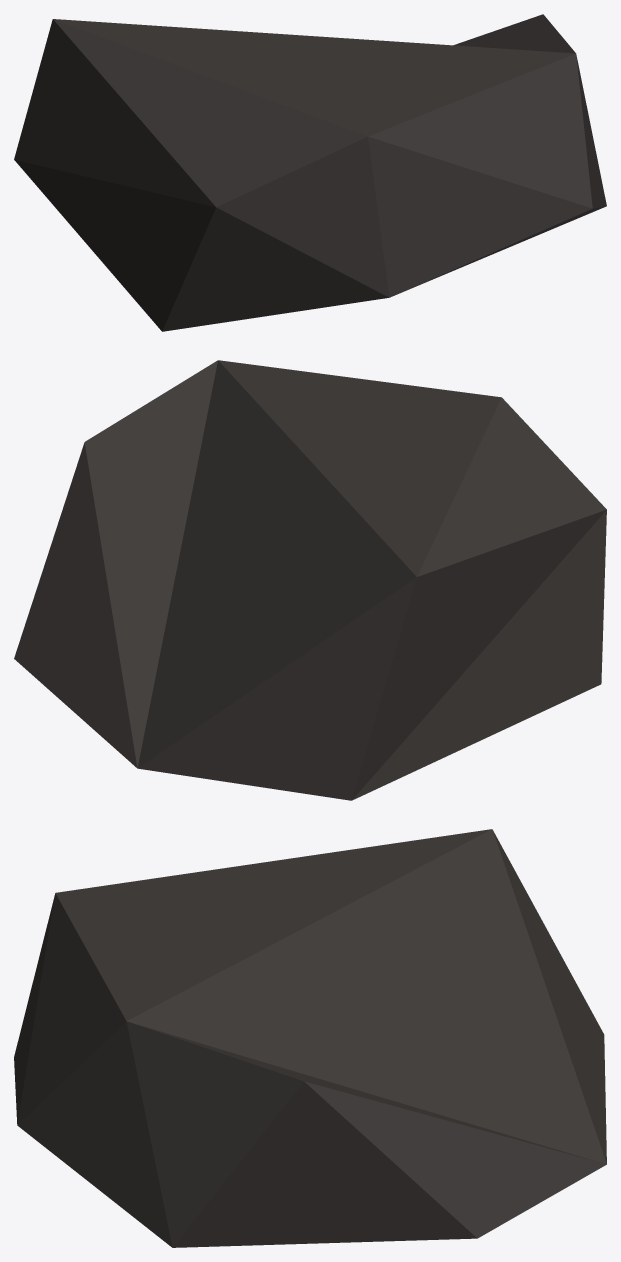
File: Rock_Single_3.fbx
3 views of the same model, one above another, from view 1: azimuth 30°, elevation 25°; view 2: azimuth 150°, elevation 25°; view 3: azimuth 270°, elevation 25° (orthographic). The views are drawn at different scales.
Parts seen in each view (by area): view 1: Group65481; view 2: Group65481; view 3: Group65481.
Boxes of the visible parts, bbox=[...] form: Group65481: bbox=[14, 14, 606, 331]; Group65481: bbox=[14, 360, 606, 800]; Group65481: bbox=[14, 829, 606, 1247].
Size of the model in its own units: 0.9313 by 0.4568 by 0.9805.
